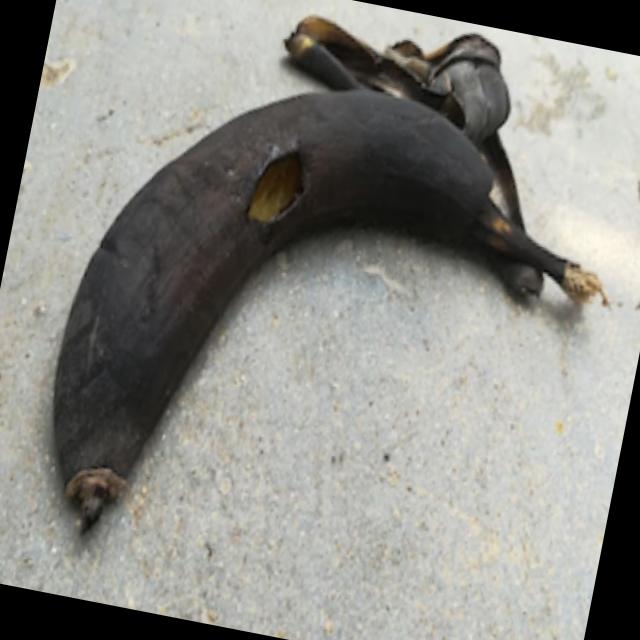rotten-banana: (31, 51, 571, 580)
